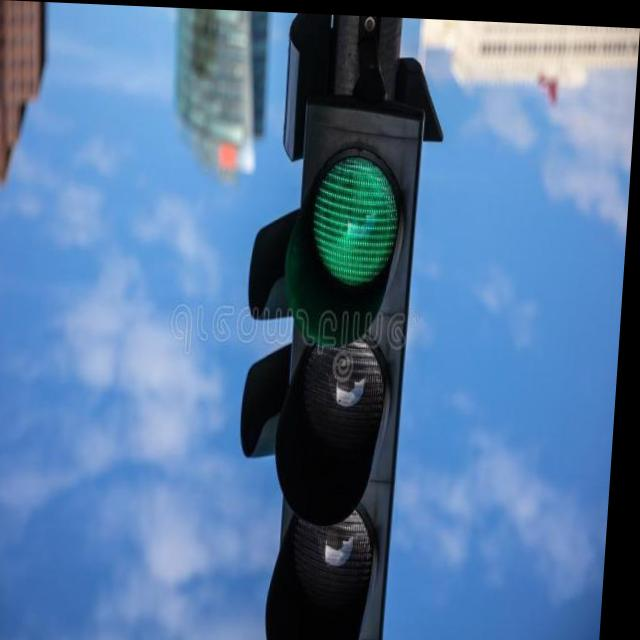green light: (266, 101, 423, 640)
